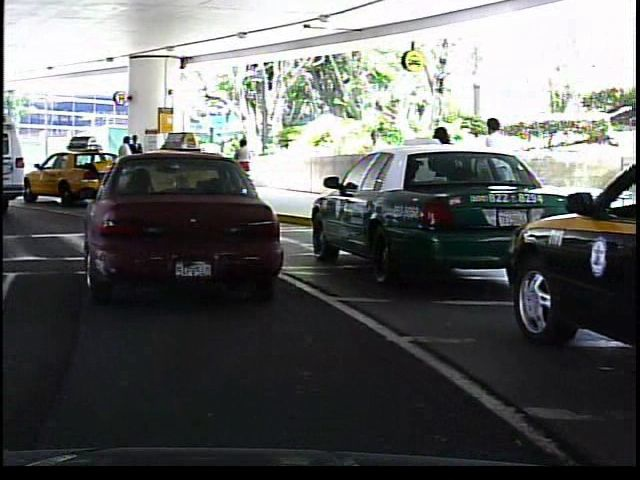person: (473, 111, 521, 229), (420, 119, 465, 225), (359, 120, 391, 202), (232, 135, 255, 192), (114, 134, 135, 190), (129, 131, 146, 188)
